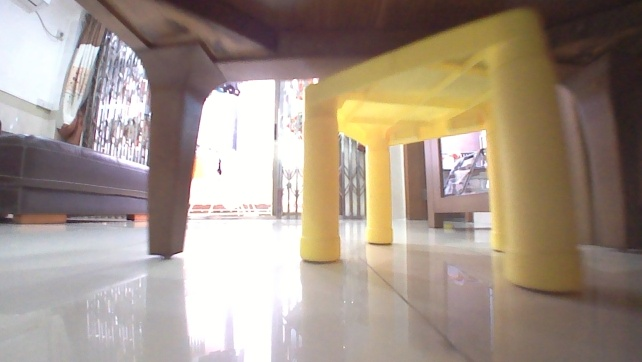sofa1: (0, 129, 148, 227)
